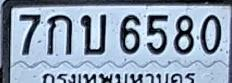0: (200, 14, 221, 54)
5: (146, 14, 168, 54)
6: (120, 14, 140, 54)
7: (20, 14, 40, 54)
8: (174, 14, 194, 54)
A01: (47, 14, 72, 55)
A26: (80, 14, 106, 54)
